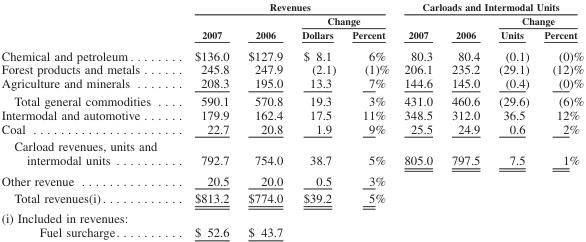table: (0, 0, 583, 239)
table column: (0, 0, 177, 239), (177, 0, 238, 239), (238, 0, 291, 239), (343, 0, 396, 239), (291, 0, 343, 239), (488, 0, 536, 239), (441, 0, 488, 239), (536, 0, 583, 239), (396, 0, 441, 239)
table column header: (0, 0, 583, 44)
table projected row header: (0, 208, 583, 225)
table row: (0, 137, 583, 170), (0, 170, 583, 189), (0, 189, 583, 208), (0, 44, 583, 62), (0, 27, 583, 44), (0, 208, 583, 225), (0, 91, 583, 107), (0, 121, 583, 137), (0, 76, 583, 91), (0, 13, 583, 27), (0, 62, 583, 76), (0, 107, 583, 121), (0, 225, 583, 239), (0, 0, 583, 13)
table spanning cell: (177, 0, 396, 13), (396, 0, 583, 13), (177, 13, 238, 44), (238, 13, 291, 44), (291, 13, 396, 27), (441, 13, 488, 44), (396, 13, 441, 44), (488, 13, 583, 27)
